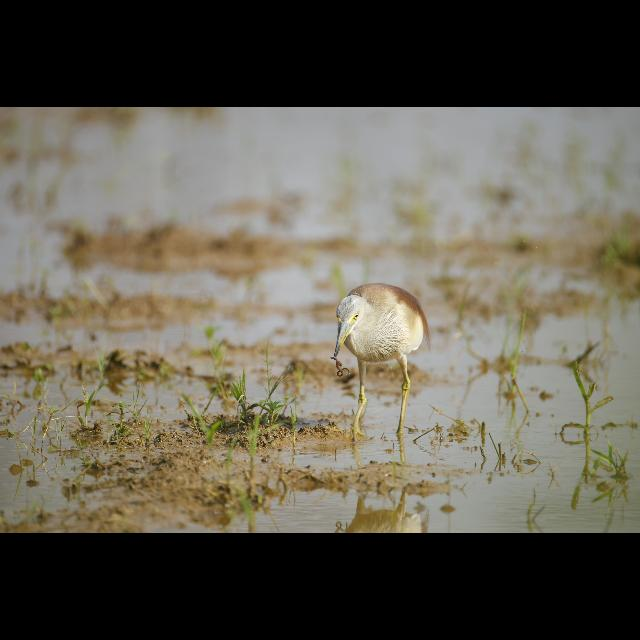heron: (322, 272, 442, 423)
